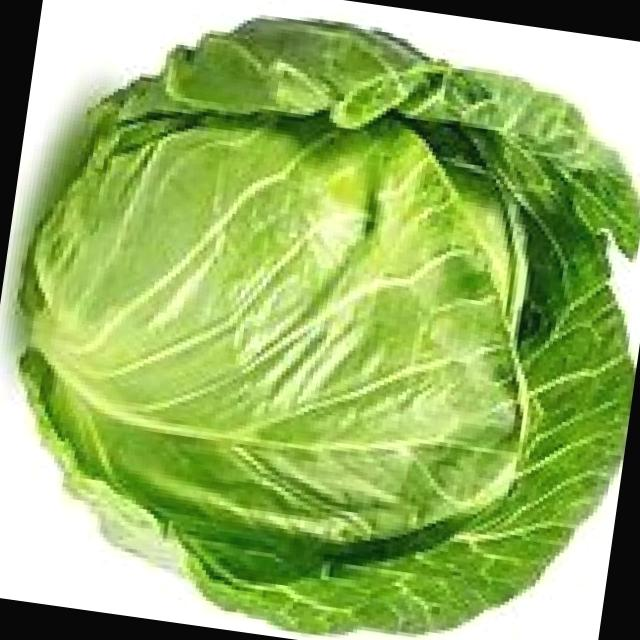cabbage: (0, 77, 561, 565)
